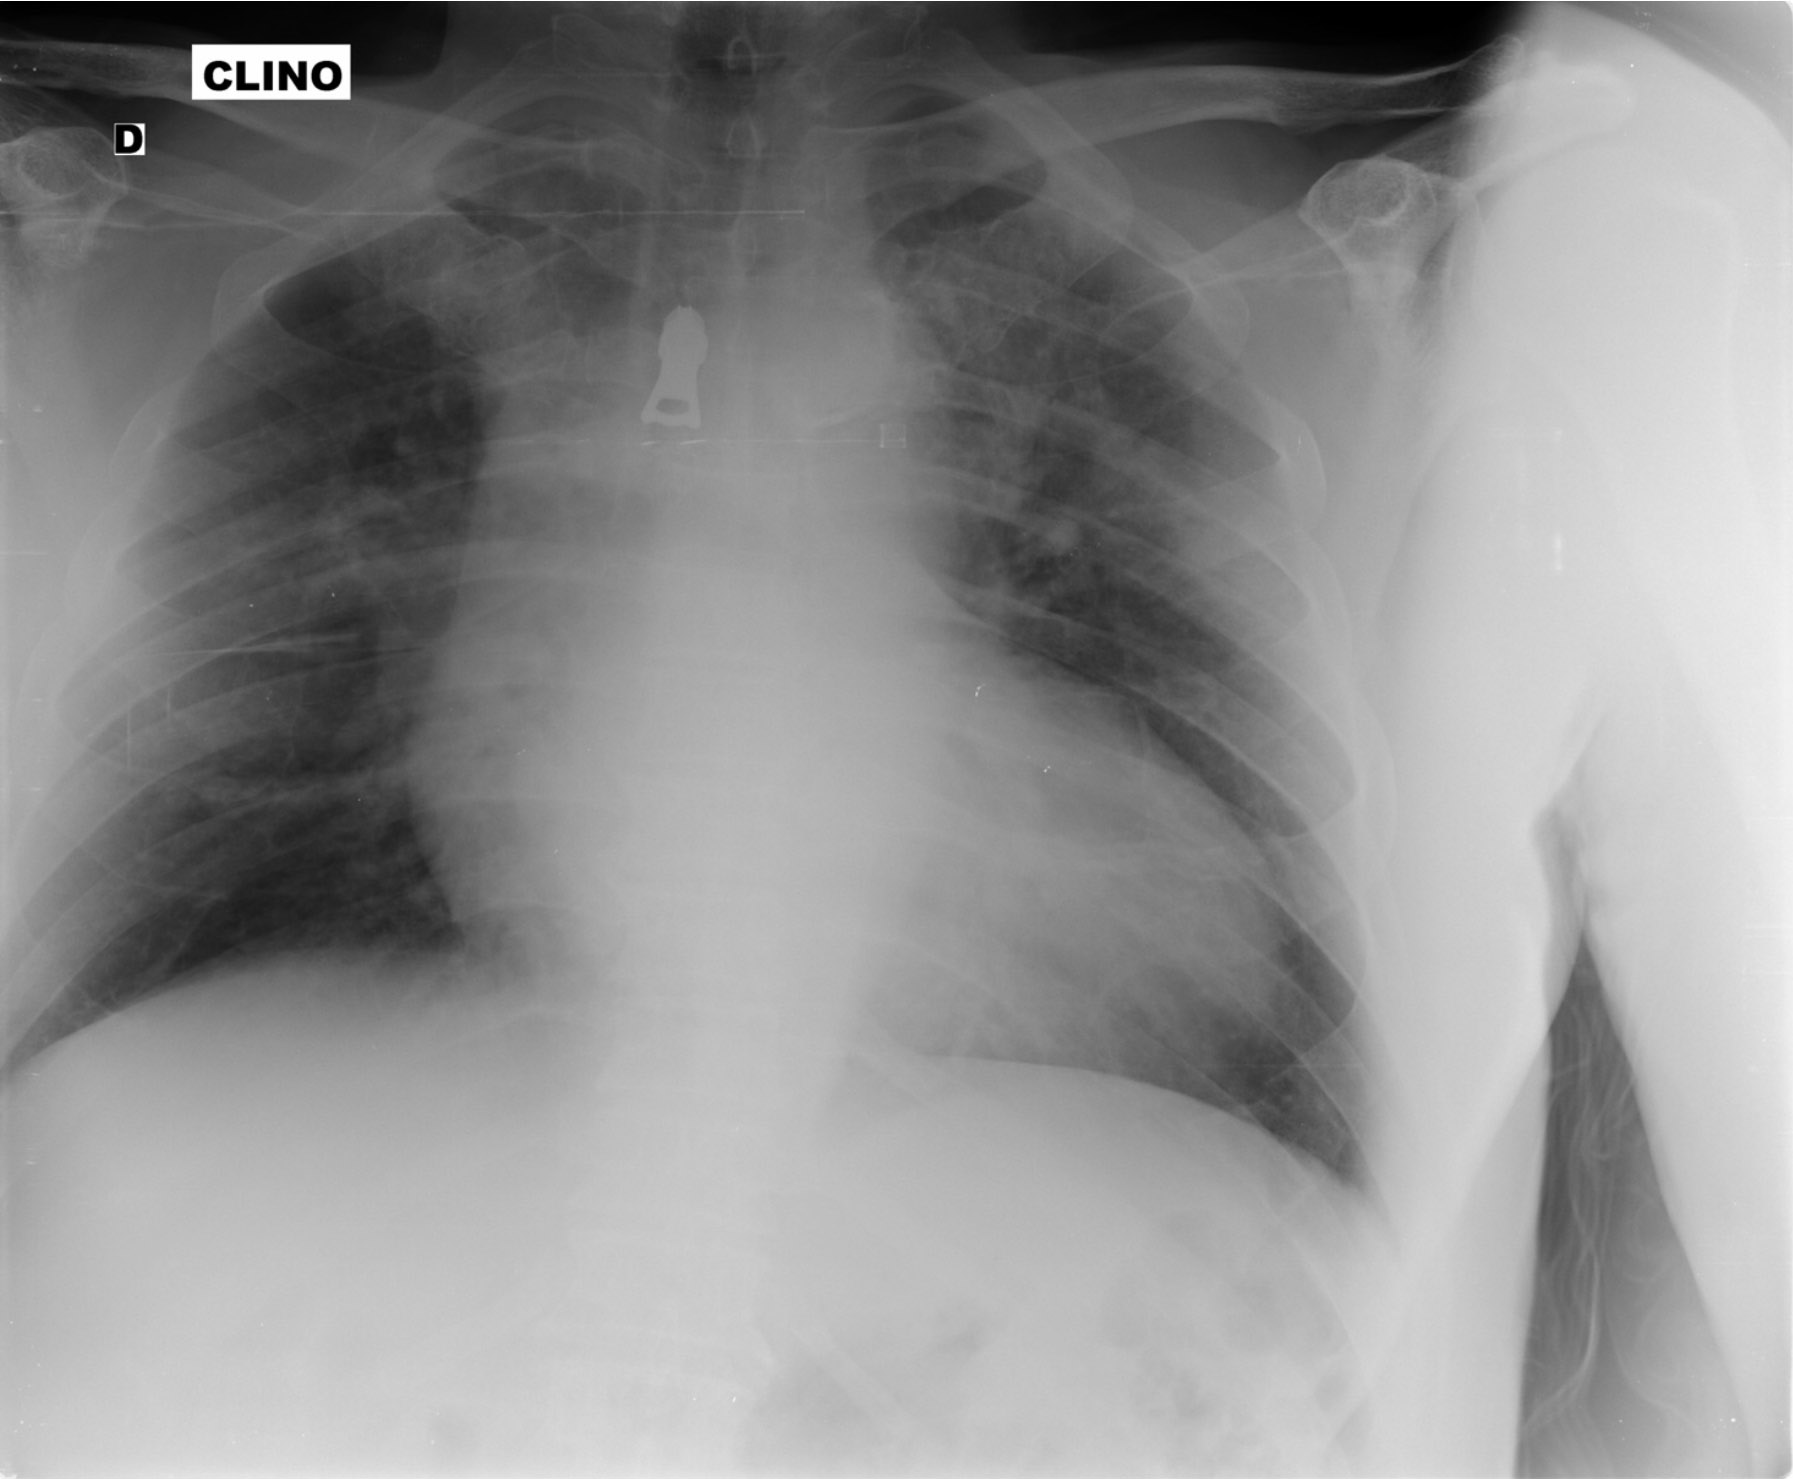Mildw: (856, 92, 1386, 1181), (39, 189, 511, 1037)
